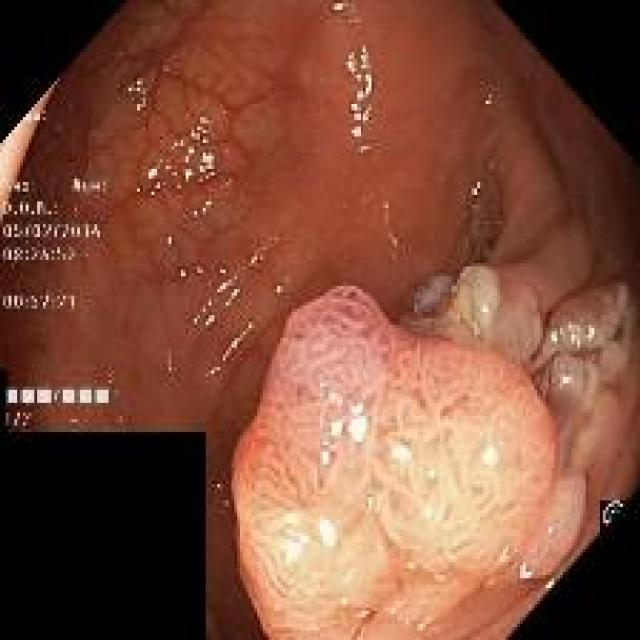Polyps: (232, 286, 555, 640)
